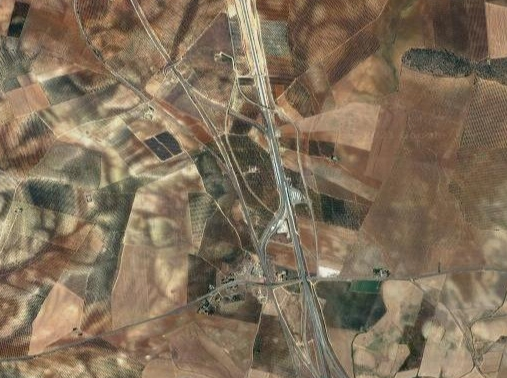motorway: (251, 231, 326, 344), (208, 127, 256, 233), (259, 116, 301, 233), (235, 1, 277, 117), (196, 262, 295, 303), (99, 299, 197, 340), (326, 264, 507, 286), (1, 332, 98, 369), (164, 60, 216, 129), (125, 1, 171, 60), (283, 344, 342, 378)
